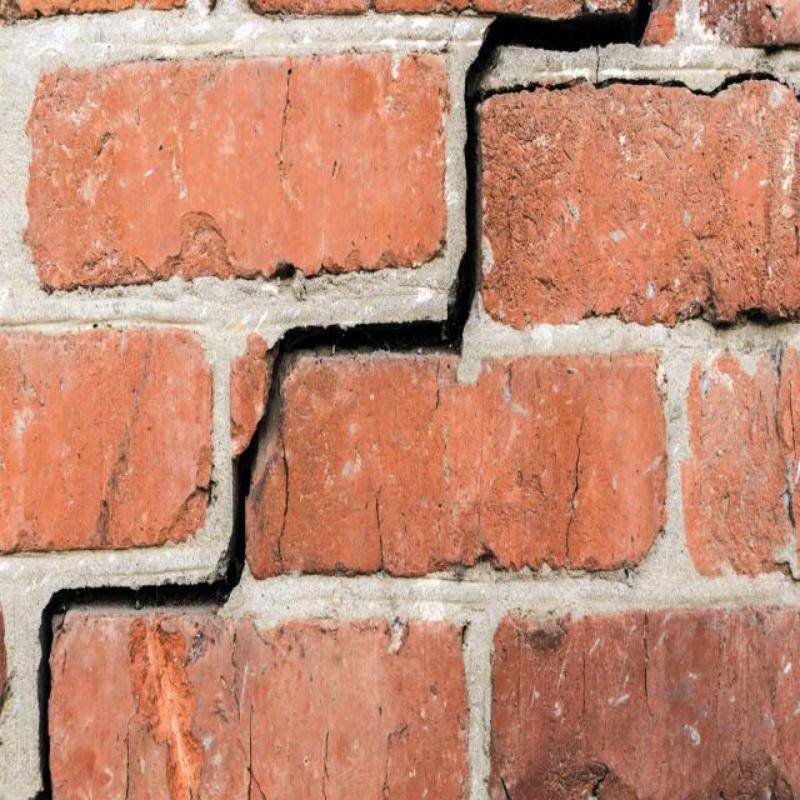pothole: (262, 0, 650, 420), (38, 422, 262, 795), (476, 70, 799, 105), (564, 412, 589, 559), (244, 705, 268, 799), (276, 59, 295, 171), (274, 441, 291, 561), (382, 725, 409, 799), (125, 692, 141, 799), (641, 611, 655, 720), (372, 490, 386, 570), (579, 648, 590, 721), (321, 725, 331, 799), (431, 354, 444, 410), (499, 776, 514, 799), (592, 46, 602, 80)
